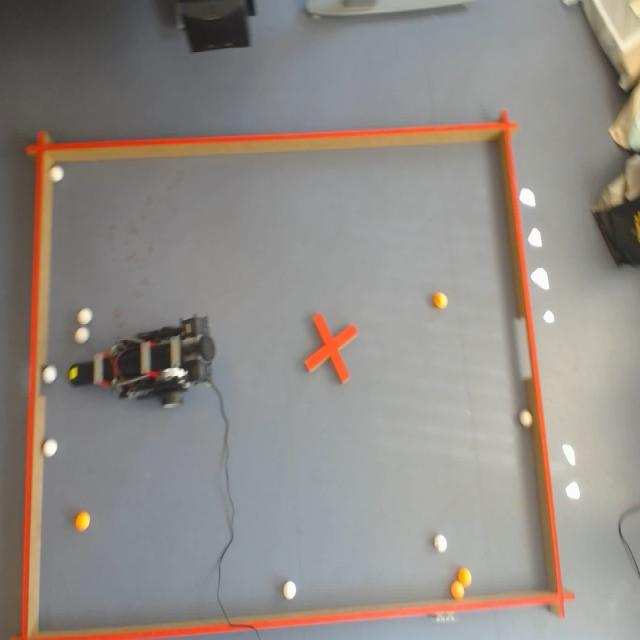orange: (72, 509, 92, 534), (430, 290, 450, 311), (450, 578, 466, 601), (457, 568, 471, 588)
robot: (65, 316, 216, 405)
robot-front: (67, 363, 79, 383)
white: (46, 162, 68, 186), (41, 438, 60, 461), (73, 323, 92, 345), (41, 363, 59, 386), (75, 306, 94, 327), (281, 579, 298, 602), (518, 410, 533, 430), (434, 534, 447, 553)
